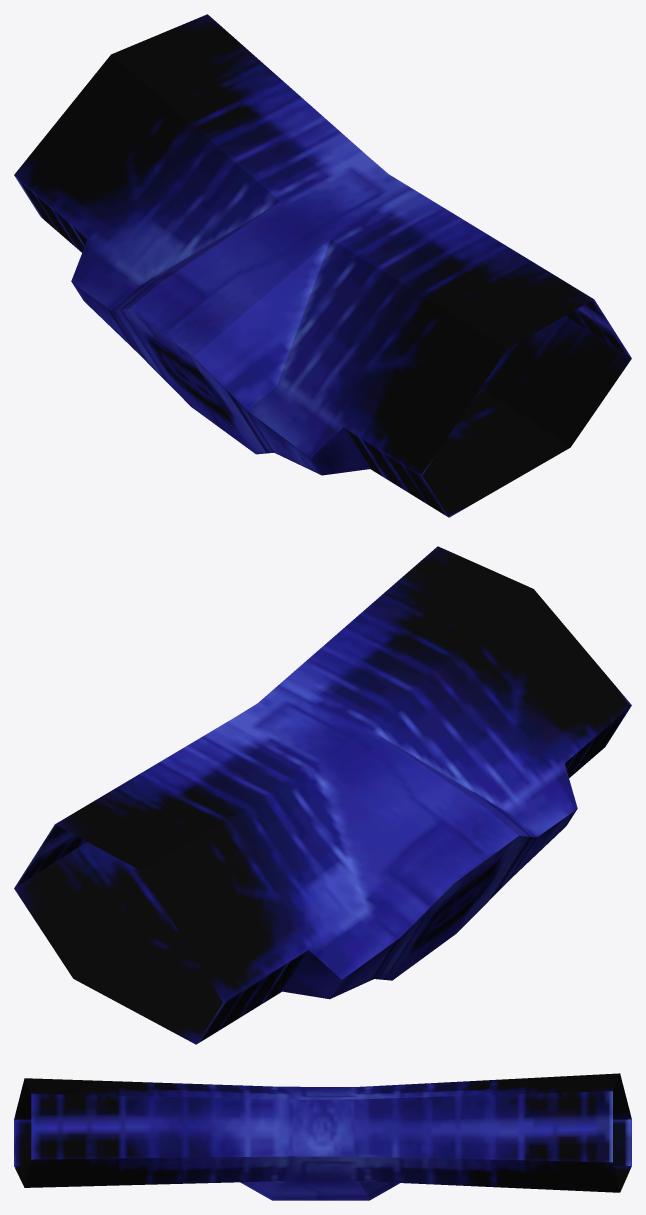
Rendered from sin_mesh_120.dae.
The picture shows the model from 3 angles, top to bottom: view 1: azimuth 30°, elevation 25°; view 2: azimuth 150°, elevation 25°; view 3: azimuth 270°, elevation 25°; orthographic projection. The views are drawn at different scales.
Visible parts, largest first — view 1: MULT[Root_mesh]_LOD[0]; view 2: MULT[Root_mesh]_LOD[0]; view 3: MULT[Root_mesh]_LOD[0].
Part boxes in pixels (x1=…): MULT[Root_mesh]_LOD[0]: x1=14, y1=14, x2=631, y2=517; MULT[Root_mesh]_LOD[0]: x1=14, y1=546, x2=631, y2=1044; MULT[Root_mesh]_LOD[0]: x1=14, y1=1073, x2=631, y2=1200.
Size of the model in its own units: 64.32 by 50.63 by 162.
1 material, 1 textured.
